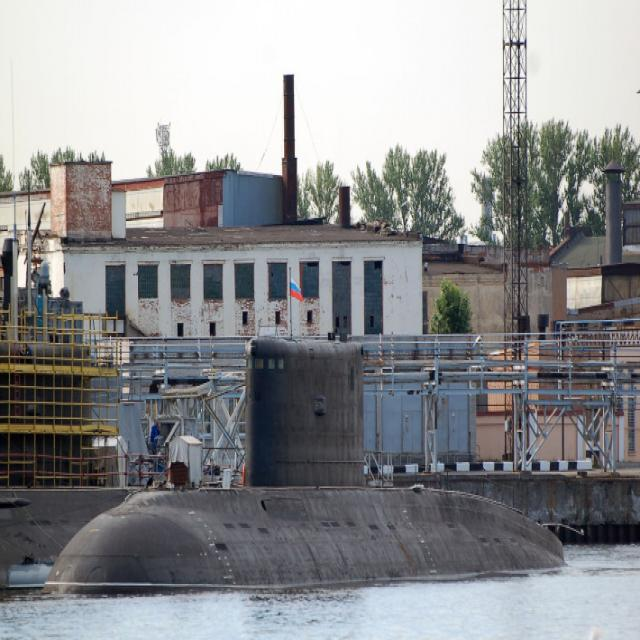submarine: (42, 337, 568, 595)
